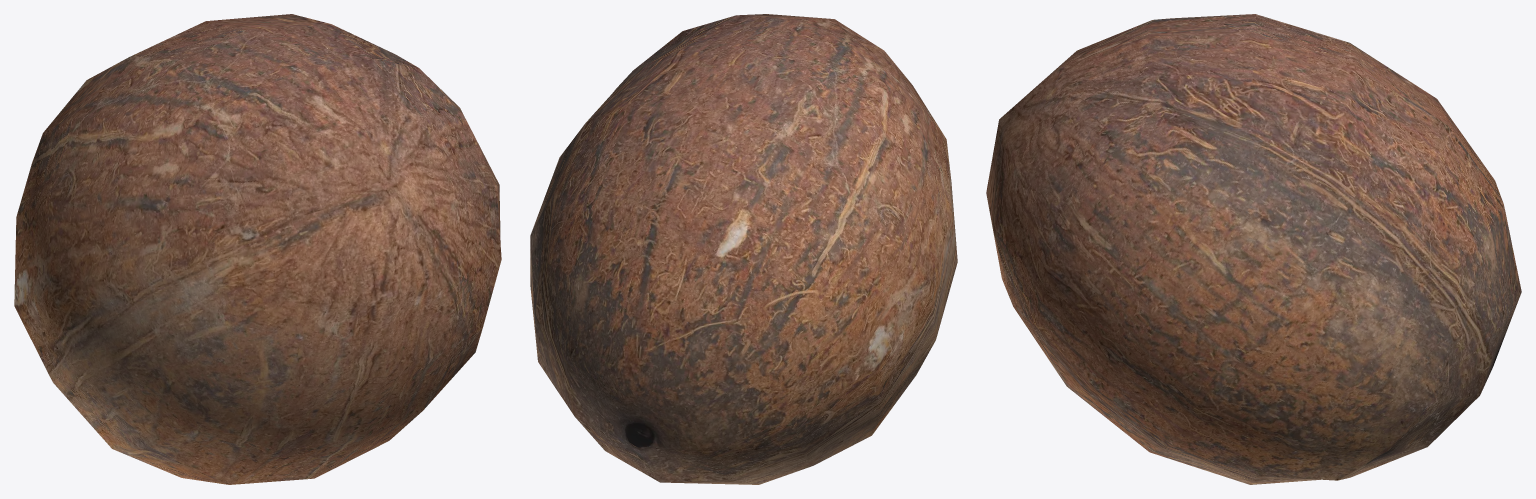
Rendered from coconut.glb.
The picture shows the model from 3 angles, left to right: view 1: azimuth 30°, elevation 25°; view 2: azimuth 150°, elevation 25°; view 3: azimuth 270°, elevation 25°; orthographic projection. The views are drawn at different scales.
Parts seen in each view (by area): view 1: Cube_TT_checker_512x512_UV_GRID_0; view 2: Cube_TT_checker_512x512_UV_GRID_0; view 3: Cube_TT_checker_512x512_UV_GRID_0.
Boxes of the visible parts, bbox=[...] form: Cube_TT_checker_512x512_UV_GRID_0: bbox=[14, 14, 501, 484]; Cube_TT_checker_512x512_UV_GRID_0: bbox=[530, 14, 957, 484]; Cube_TT_checker_512x512_UV_GRID_0: bbox=[986, 14, 1521, 484].
Size of the model in its own units: 0.9933 by 1.02 by 1.15.
Materials: 1 (1 with a texture image).
